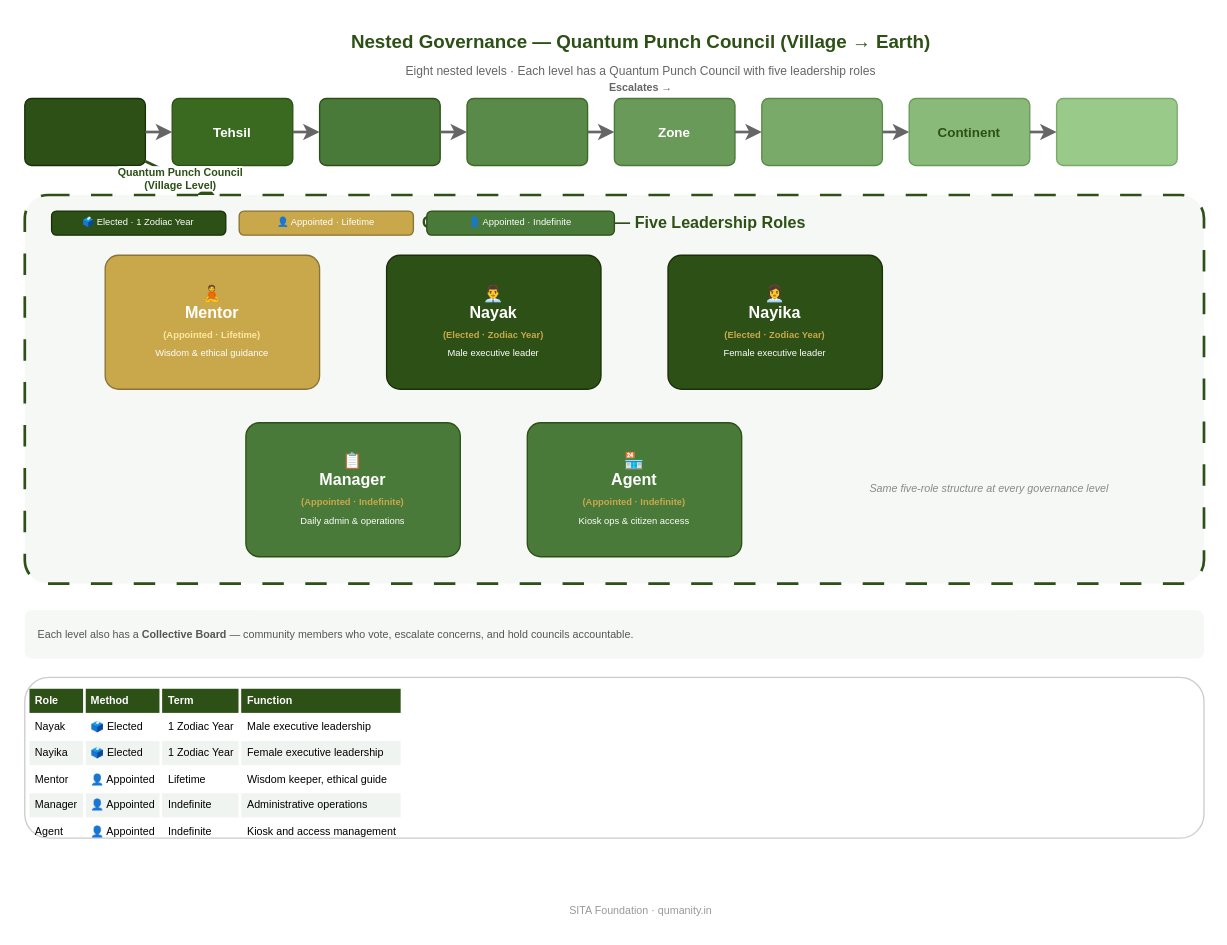
Some shapes in this 1227 by 945 pixel diagram are drawn without their labels. Here are the shapes that lost their labels. From the top down, the box of each, then its label:
(23, 97, 145, 165): Village
(318, 97, 440, 165): District
(466, 97, 588, 165): State
(760, 97, 882, 165): Country
(1055, 97, 1177, 165): Earth
